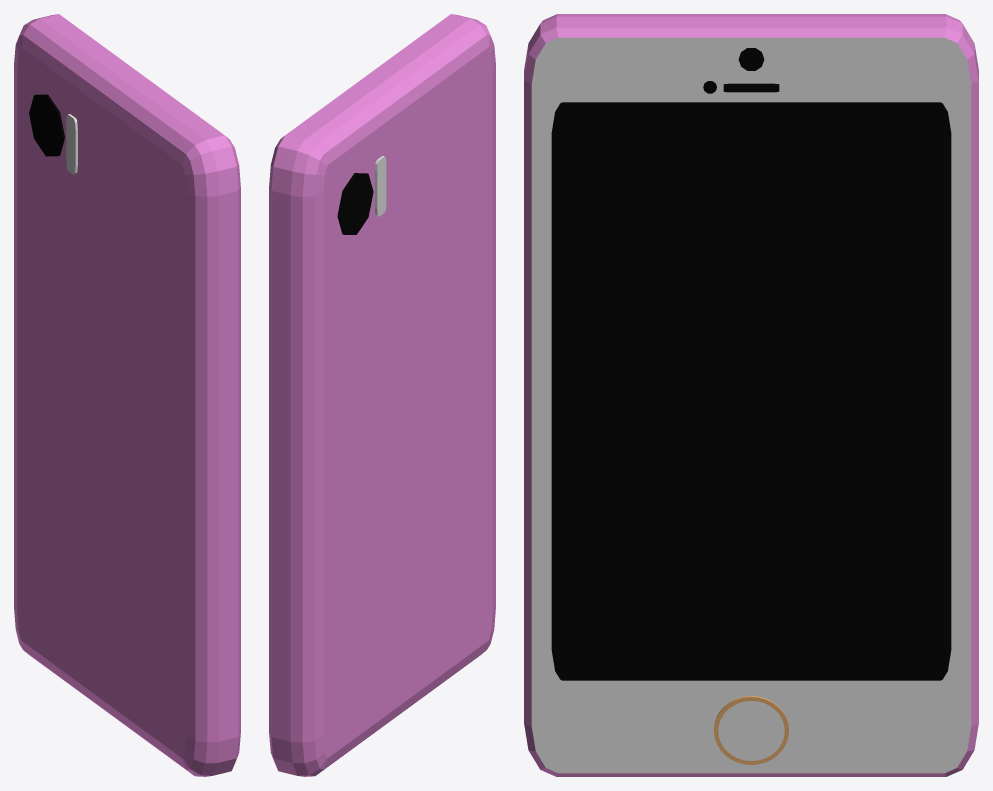
File: VleesPhone.fbx
3 views of the same model, side by side, from view 1: azimuth 30°, elevation 25°; view 2: azimuth 150°, elevation 25°; view 3: azimuth 270°, elevation 25° (orthographic). The views are drawn at different scales.
Visible parts, largest first — view 1: Phone, PhoneCamera, Torch; view 2: Phone, PhoneCamera, Torch; view 3: Phone, Button.
Part boxes in pixels (left/top/right/bottom): Phone: left=14, top=14, right=240, bottom=776; PhoneCamera: left=29, top=94, right=64, bottom=156; Torch: left=66, top=114, right=77, bottom=174; Phone: left=269, top=14, right=495, bottom=776; PhoneCamera: left=337, top=173, right=373, bottom=234; Torch: left=375, top=156, right=386, bottom=216; Phone: left=524, top=14, right=978, bottom=776; Button: left=714, top=696, right=788, bottom=764.
Bounding box in the file's own units: 32.8 × 400 × 220.
